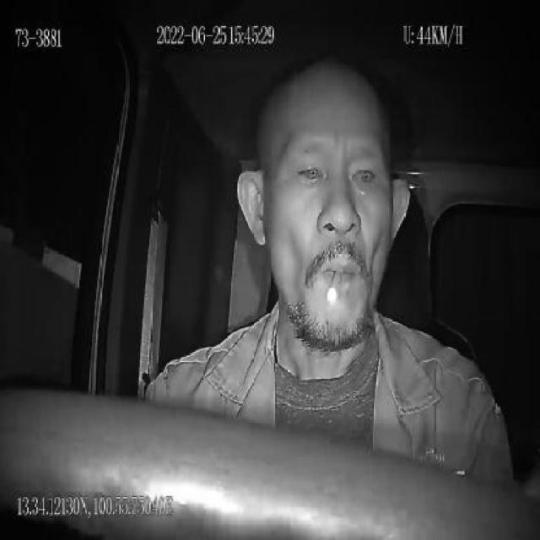smoking: (328, 266, 343, 303)
